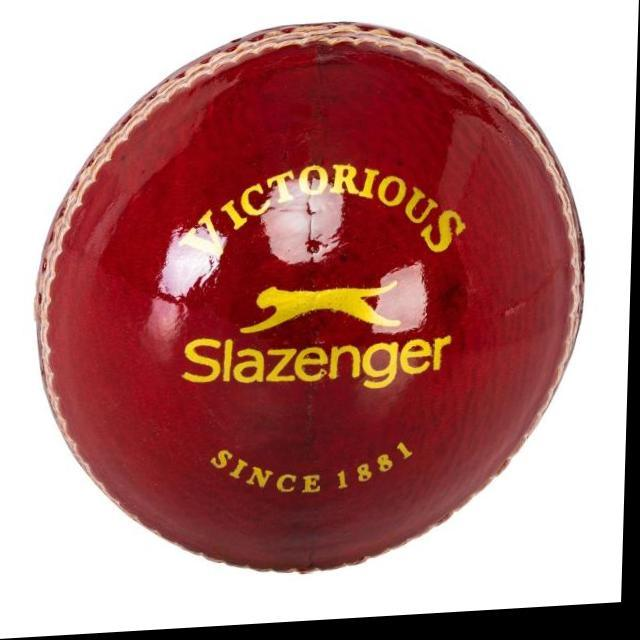cricket ball: (38, 27, 589, 578)
